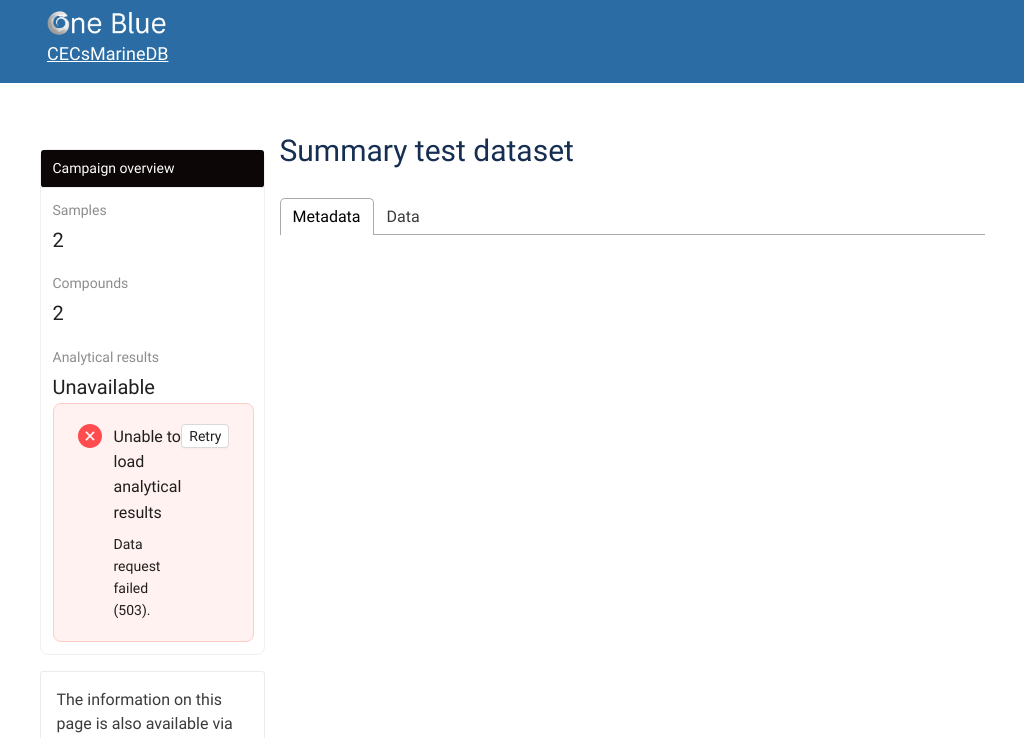
Test case: Sampling campaign summaries › keeps downloads available on summary errors and supports retry
Click the tab "Data": (404, 217) [387,207,420,226]
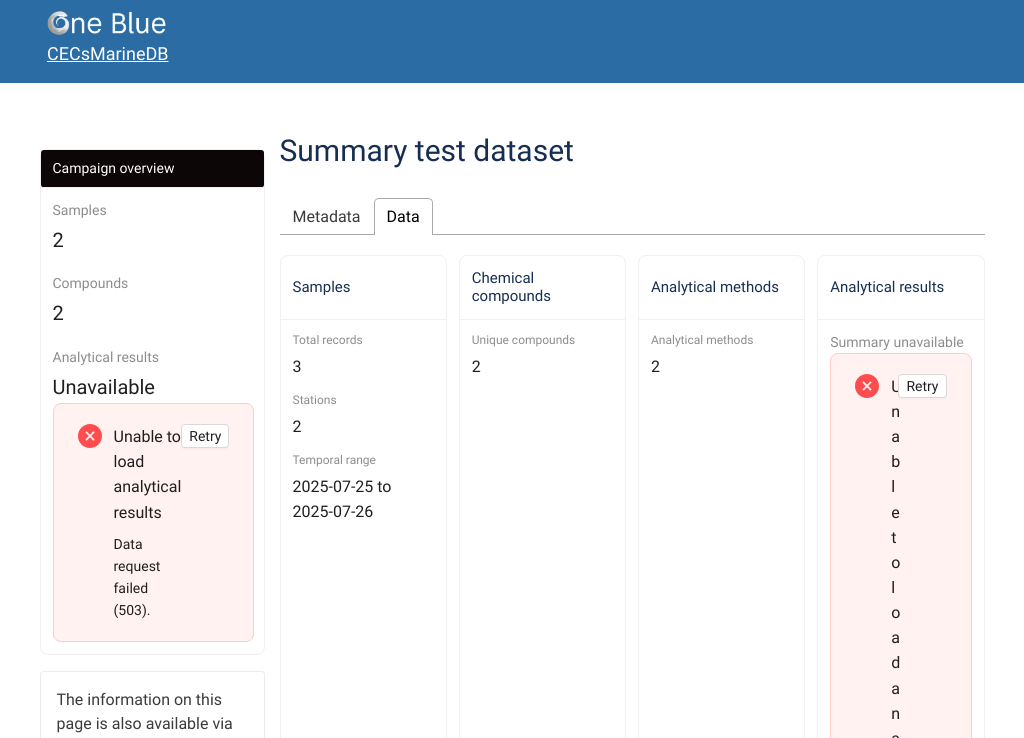
Click the button "Retry" below "Summary unavailable": (922, 386) [898,374,946,398]
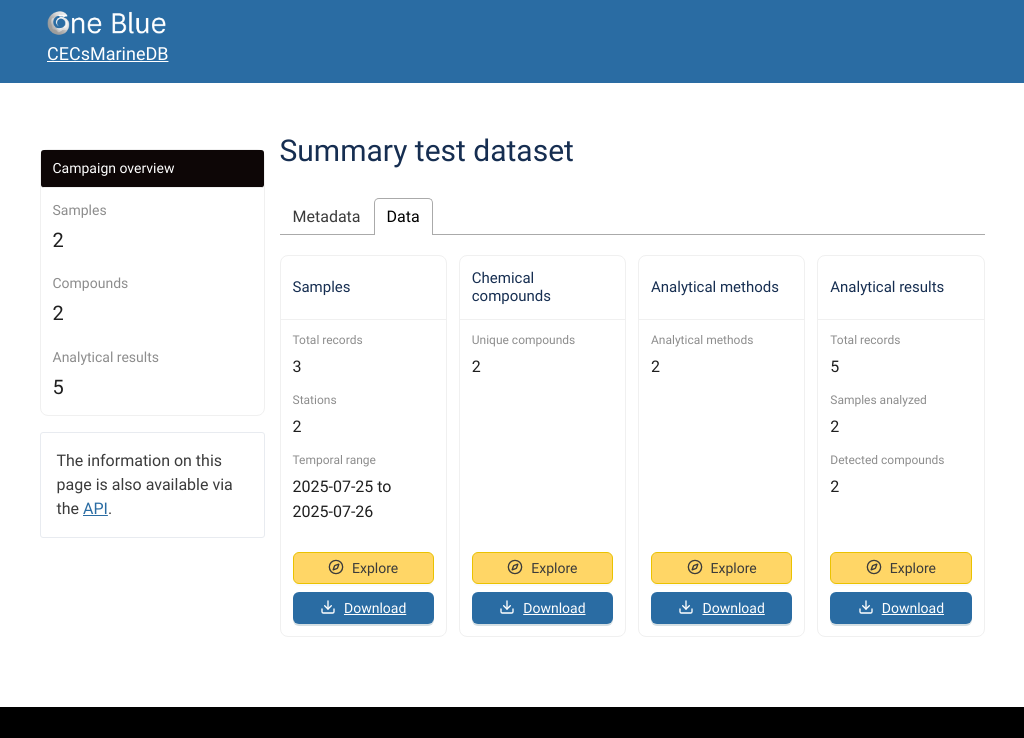
Expected: the button "Explore" below "Detected compounds" is enabled, [830,552,971,584]
Expected: the message "Unable to load analytical results Data request failed (503). Retry" is gone
